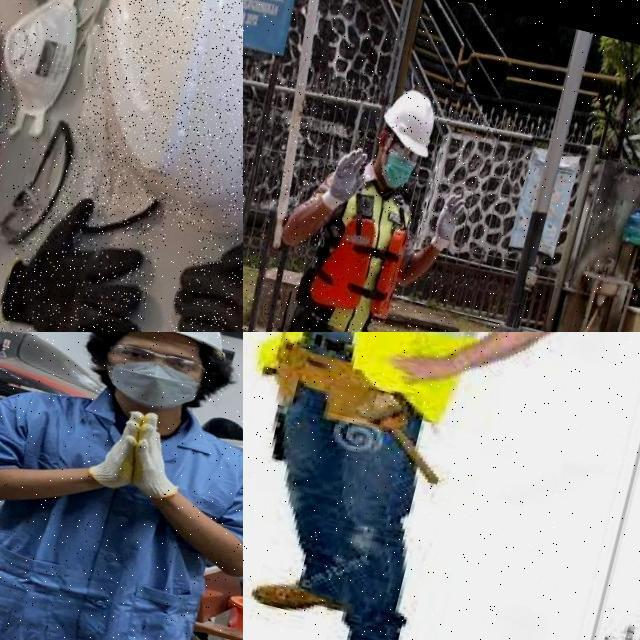boots: (0, 0, 37, 280), (250, 572, 350, 624)
helmet: (56, 0, 243, 258), (371, 80, 446, 170), (86, 332, 243, 366)
vest: (251, 332, 507, 430), (288, 171, 424, 332)
